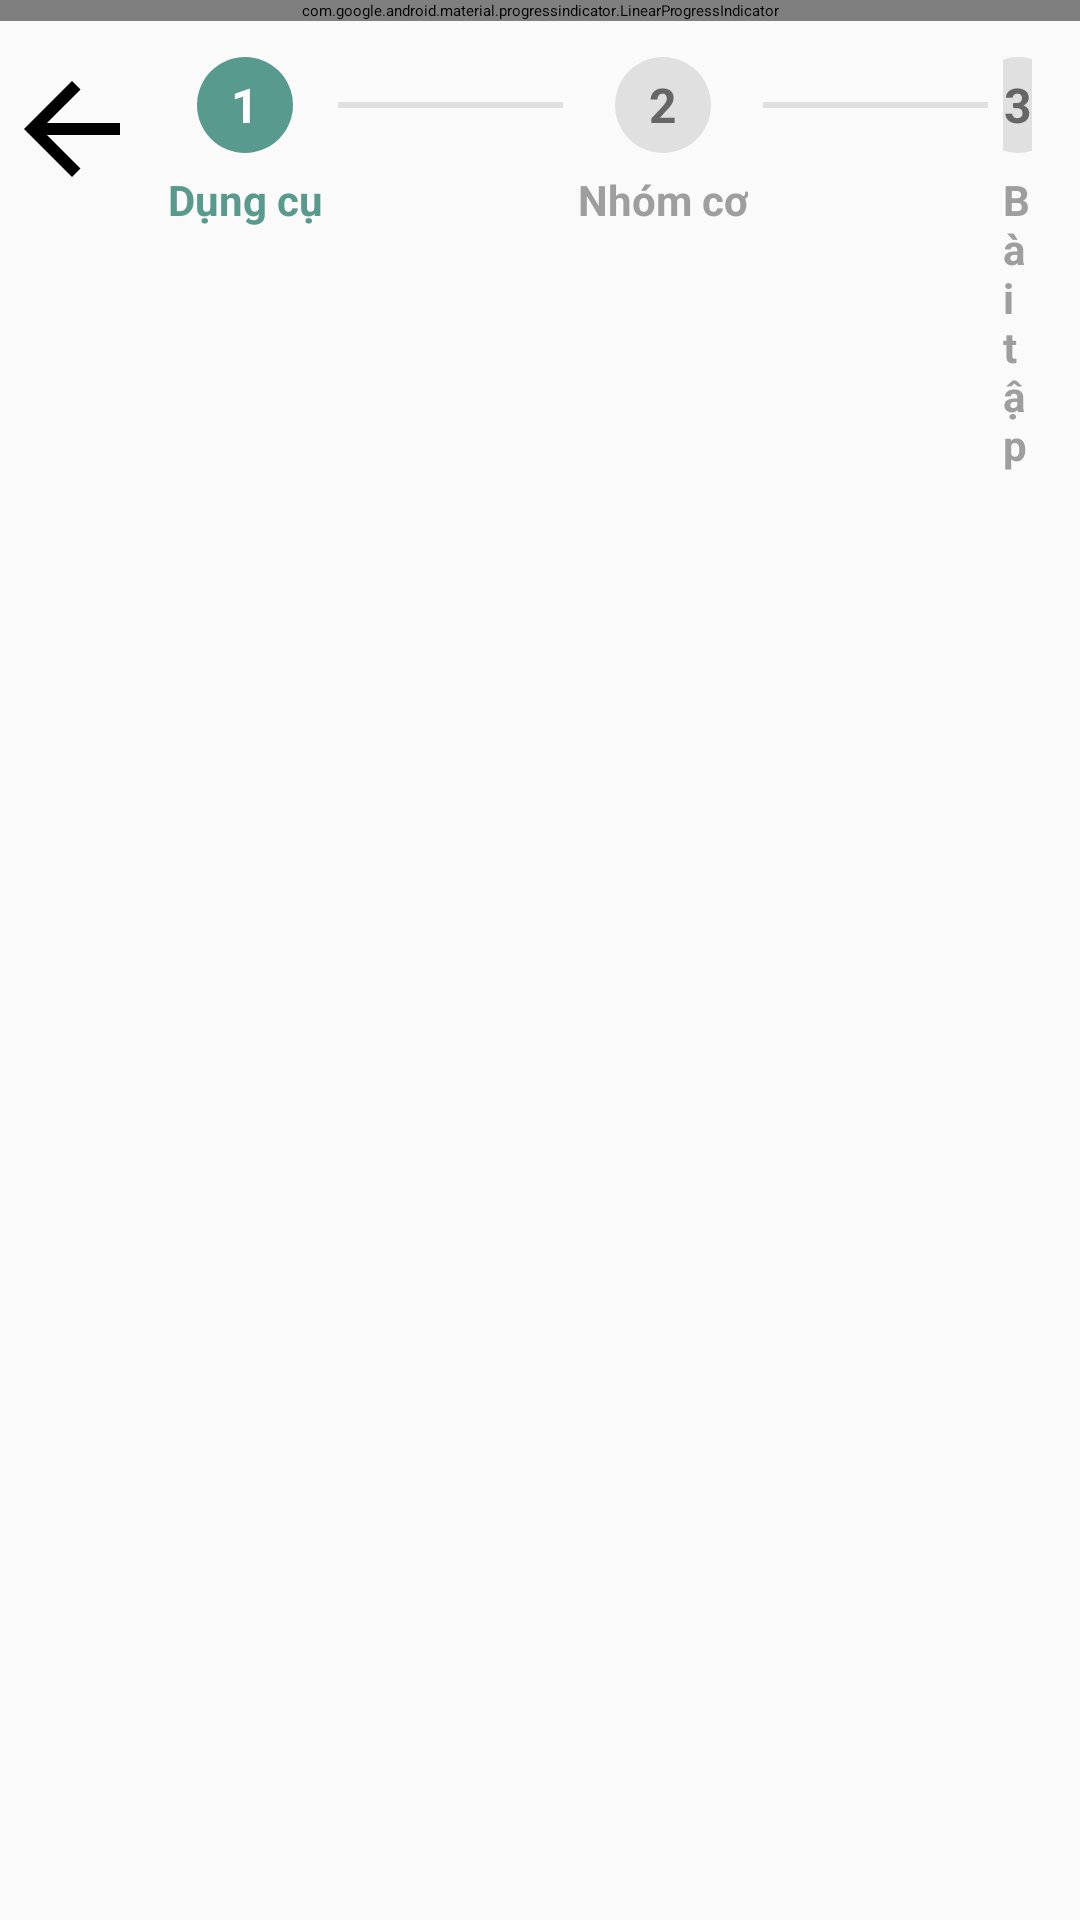

Where to tap for icons on this 1080px x 1920px app screen, as point (x, y):
arrow back breakfast: point (72, 129)
